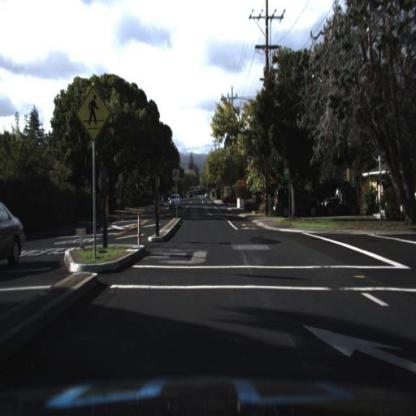car: (1, 201, 28, 276), (321, 179, 368, 222), (271, 181, 318, 222), (167, 191, 187, 216), (220, 190, 241, 209), (152, 190, 167, 210)
